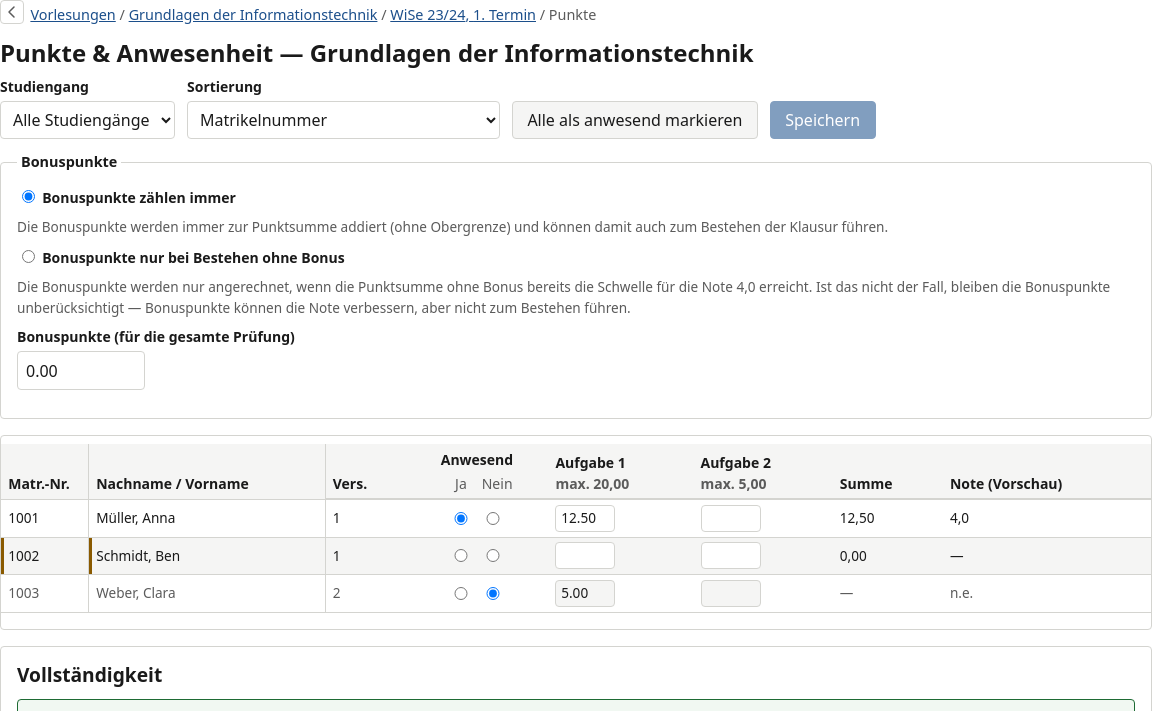
PointsEntryPage — §8.1 recomputation warning › stays quiet when grades_changed is 0 even though bonus_points was patched
Replace the text in the field with test id "bonus-points" with "3" at [81, 371], box left=17, top=351, right=145, bottom=390
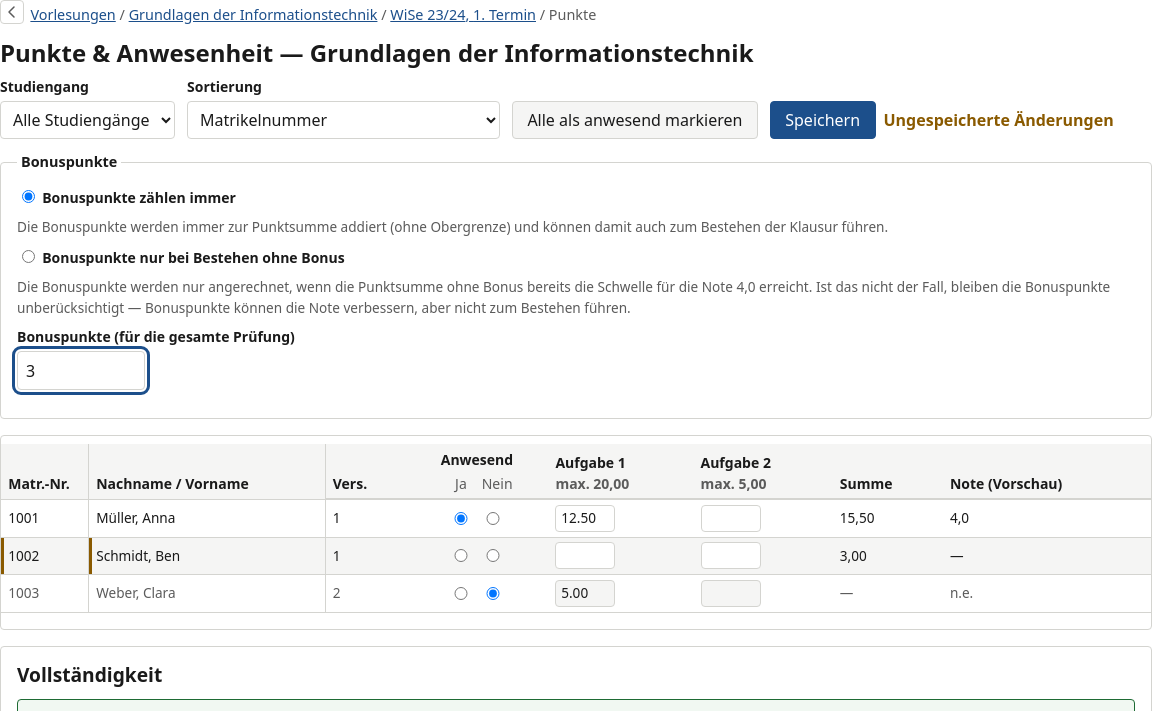
Click the button "Speichern" at [823, 120], box left=770, top=101, right=876, bottom=139
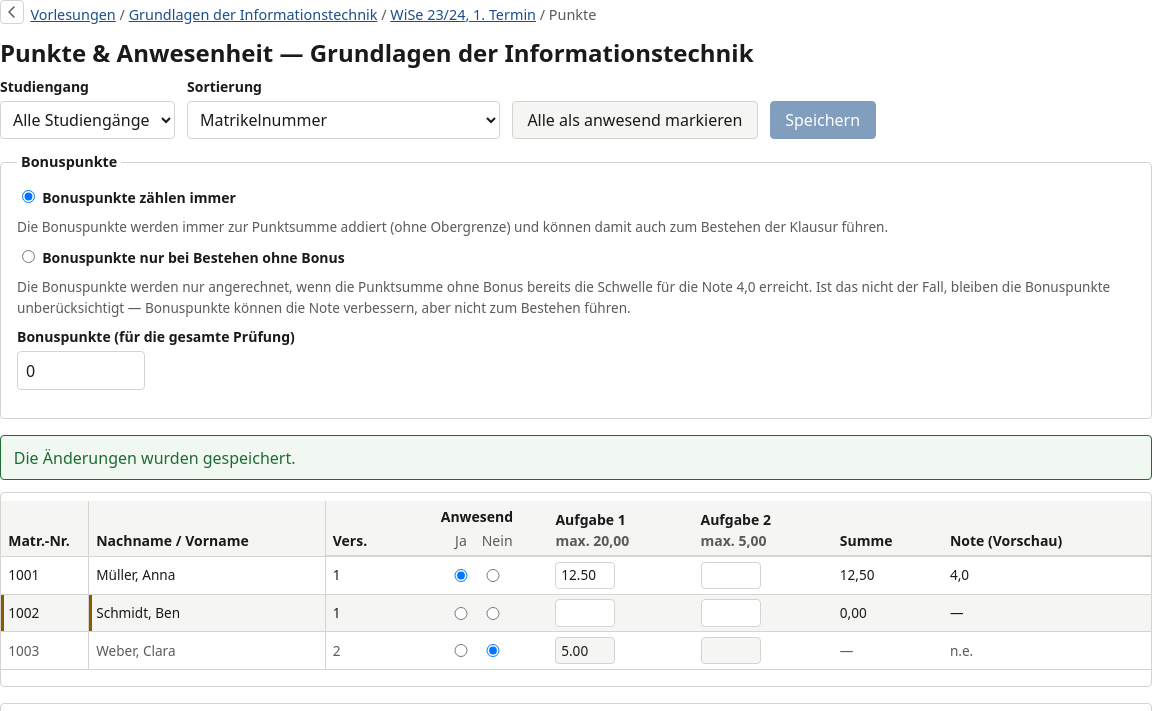
Expected: the text "Die Änderungen wurden gespeichert." is shown, left=0, top=435, right=1151, bottom=480
